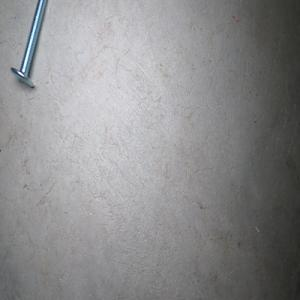Bolt: (10, 0, 48, 88)
